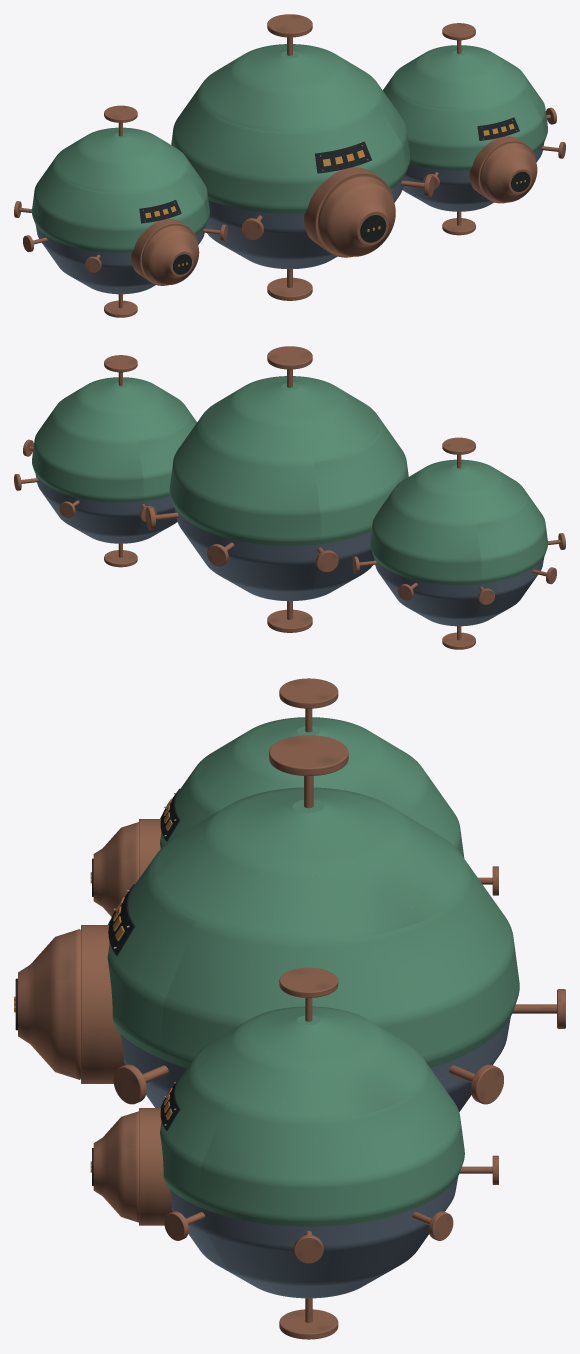
The picture shows the model from 3 angles, top to bottom: view 1: azimuth 30°, elevation 25°; view 2: azimuth 150°, elevation 25°; view 3: azimuth 270°, elevation 25°; orthographic projection. The views are drawn at different scales.
Visible parts, largest first — view 1: Na-Xanth green chamber 0, Na-Xanth green chamber 1, Na-Xanth green chamber 2, Na-Xanth slate chamber 0, Na-Xanth forward coupler 0, Na-Xanth slate chamber 1, Na-Xanth slate chamber 2, Na-Xanth forward coupler 1, Na-Xanth forward coupler 2, Na-Xanth body bezel 0, Na-Xanth upper dark panel 0, Na-Xanth axial disc 0 1 (+11 smaller); view 2: Na-Xanth green chamber 0, Na-Xanth green chamber 1, Na-Xanth green chamber 2, Na-Xanth slate chamber 0, Na-Xanth slate chamber 1, Na-Xanth slate chamber 2, Na-Xanth axial disc 0 1, Na-Xanth axial disc 0 -1, Na-Xanth axial disc 2 1, Na-Xanth axial disc 1 1, Na-Xanth axial disc 2 -1, Na-Xanth axial disc 1 -1 (+2 smaller); view 3: Na-Xanth green chamber 0, Na-Xanth green chamber 2, Na-Xanth green chamber 1, Na-Xanth slate chamber 2, Na-Xanth forward coupler 0, Na-Xanth body bezel 0, Na-Xanth forward coupler 2, Na-Xanth slate chamber 0, Na-Xanth body bezel 2, Na-Xanth forward coupler 1, Na-Xanth axial disc 0 1, Na-Xanth axial disc 1 1 (+5 smaller).
Part boxes in pixels (x1,y1,x2,y2): Na-Xanth green chamber 0: (171, 44, 410, 213); Na-Xanth green chamber 1: (32, 127, 209, 253); Na-Xanth green chamber 2: (383, 45, 547, 170); Na-Xanth slate chamber 0: (205, 175, 405, 269); Na-Xanth forward coupler 0: (318, 175, 395, 256); Na-Xanth slate chamber 1: (35, 224, 206, 294); Na-Xanth slate chamber 2: (402, 142, 544, 211); Na-Xanth forward coupler 1: (141, 225, 199, 284); Na-Xanth forward coupler 2: (480, 142, 537, 202); Na-Xanth body bezel 0: (304, 167, 393, 257); Na-Xanth upper dark panel 0: (315, 141, 371, 173); Na-Xanth axial disc 0 1: (267, 14, 312, 37); Na-Xanth green chamber 0: (169, 376, 408, 545); Na-Xanth green chamber 1: (370, 459, 547, 585); Na-Xanth green chamber 2: (32, 377, 196, 502); Na-Xanth slate chamber 0: (174, 507, 374, 601); Na-Xanth slate chamber 1: (373, 556, 544, 626); Na-Xanth slate chamber 2: (35, 474, 177, 543); Na-Xanth axial disc 0 1: (267, 346, 312, 369); Na-Xanth axial disc 0 -1: (267, 609, 312, 632); Na-Xanth axial disc 2 1: (104, 355, 137, 372); Na-Xanth axial disc 1 1: (442, 437, 475, 454); Na-Xanth axial disc 2 -1: (104, 550, 137, 567); Na-Xanth axial disc 1 -1: (442, 632, 475, 649); Na-Xanth green chamber 0: (107, 787, 519, 1068); Na-Xanth green chamber 2: (160, 1006, 464, 1226); Na-Xanth green chamber 1: (160, 717, 464, 857); Na-Xanth slate chamber 2: (169, 1176, 458, 1298); Na-Xanth forward coupler 0: (18, 929, 80, 1079); Na-Xanth body bezel 0: (81, 925, 125, 1083); Na-Xanth forward coupler 2: (93, 1111, 138, 1222); Na-Xanth slate chamber 0: (120, 1017, 510, 1111); Na-Xanth body bezel 2: (139, 1108, 172, 1225); Na-Xanth forward coupler 1: (93, 822, 138, 916); Na-Xanth axial disc 0 1: (269, 735, 348, 775); Na-Xanth axial disc 1 1: (279, 678, 338, 708).
Size of the model in its own units: 5.35 by 2.6 by 2.77.
Materials: 6 (3 with a texture image).
